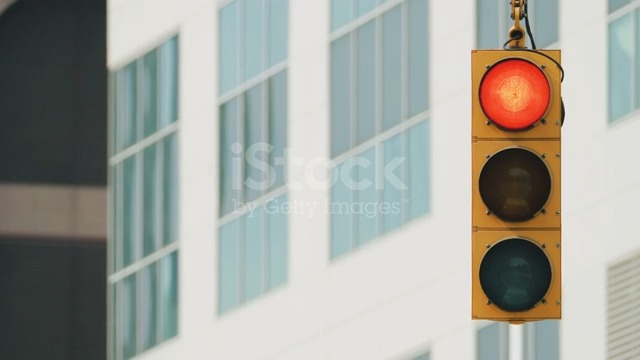red traffic light: (472, 46, 560, 321)
